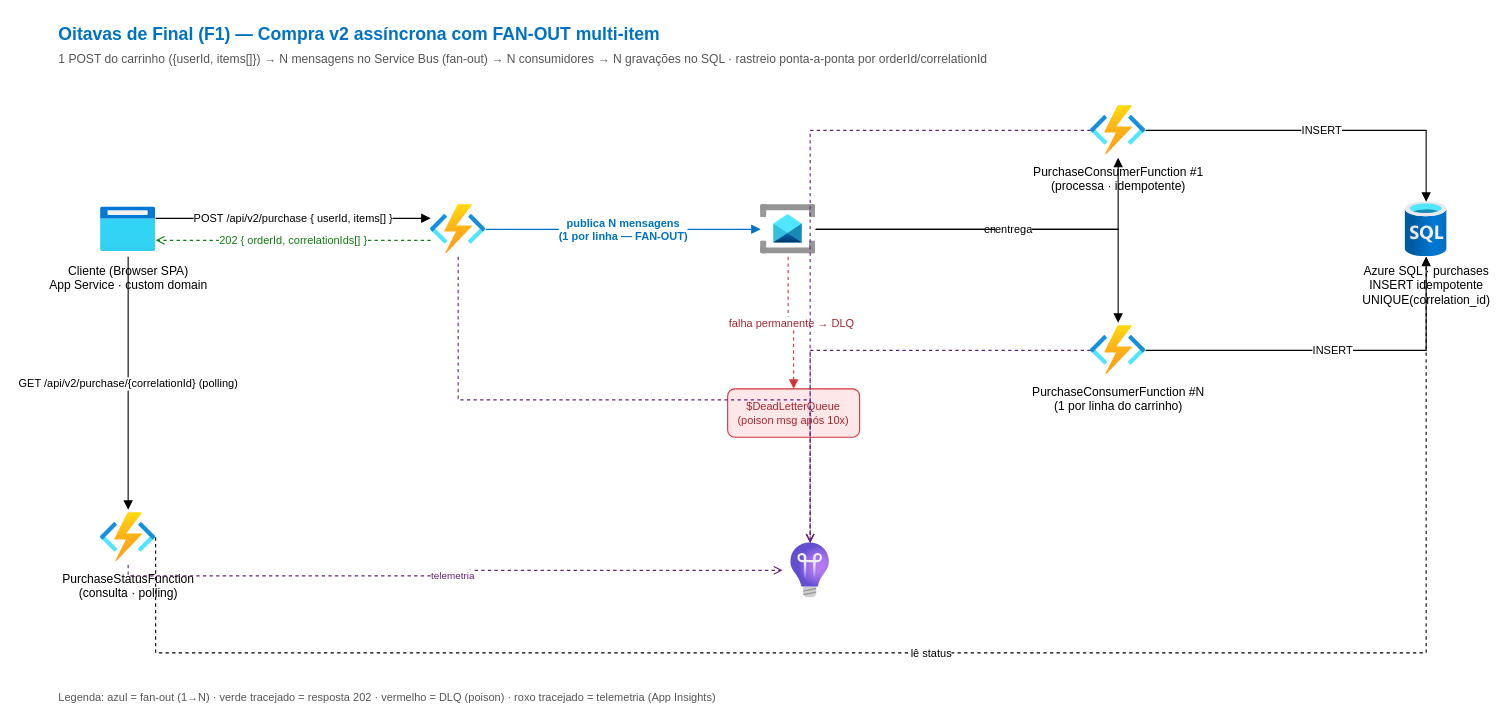
The diagram is 1509 pixels wide and 726 high, and some of its shapes have lost their labels. Here are the shapes that lost their labels. From the top down, the box of each, then its label:
(430, 201, 485, 256): PurchaseEntryFunction (produz · fan-out)
(760, 201, 815, 256): Azure Service Bus fila tickets-purchase
(782, 542, 837, 597): Application Insights 1 orderId → N correlationIds
